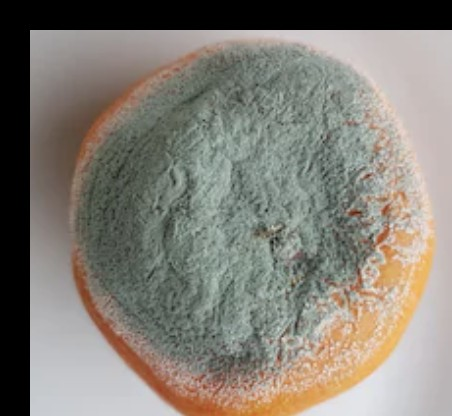rotten_orange: (70, 38, 435, 416)
